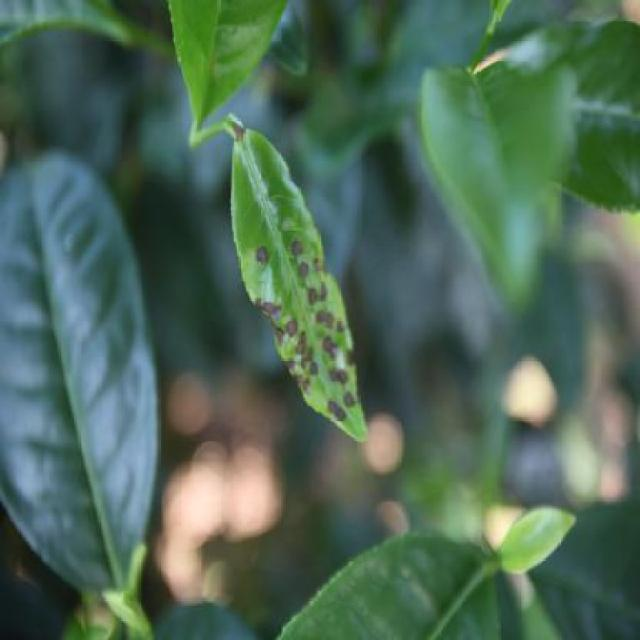Tea Mosquito bug infested leaf: (229, 115, 366, 457)
